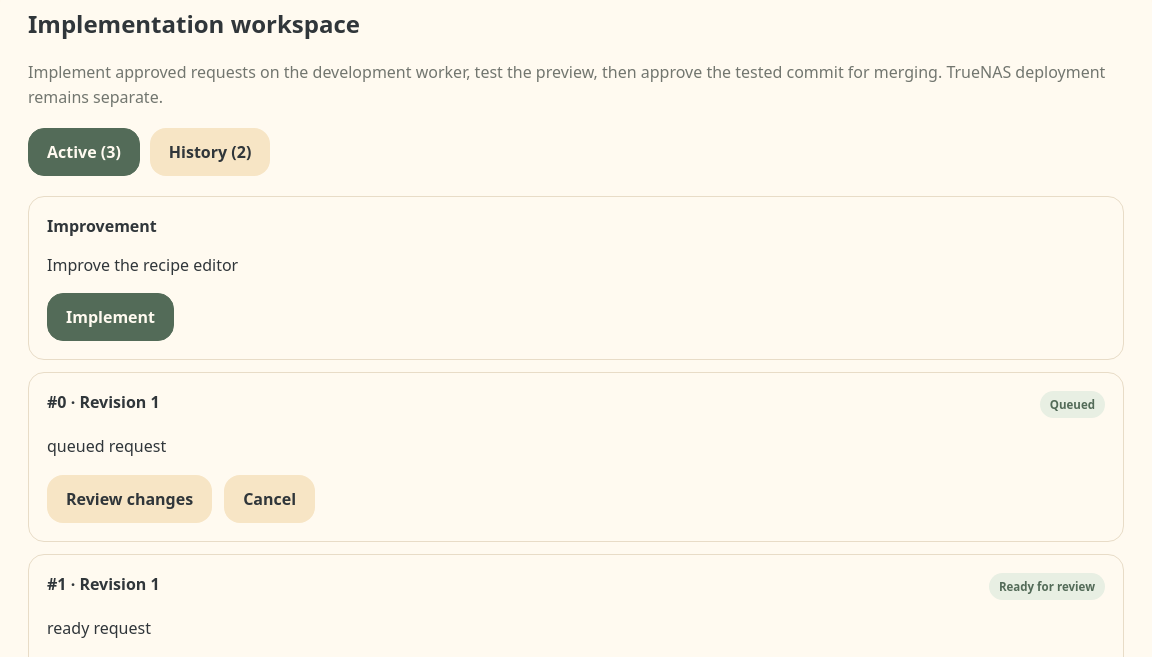
it: Implementation controls › keeps actionable jobs active and completed jobs in history without deleting them
Expected: the text "queued request" is shown, [47, 435, 166, 457]
Expected: the text "ready request" is shown, [47, 617, 151, 639]
Click the button "History (2)" at (210, 152), box [150, 128, 270, 176]
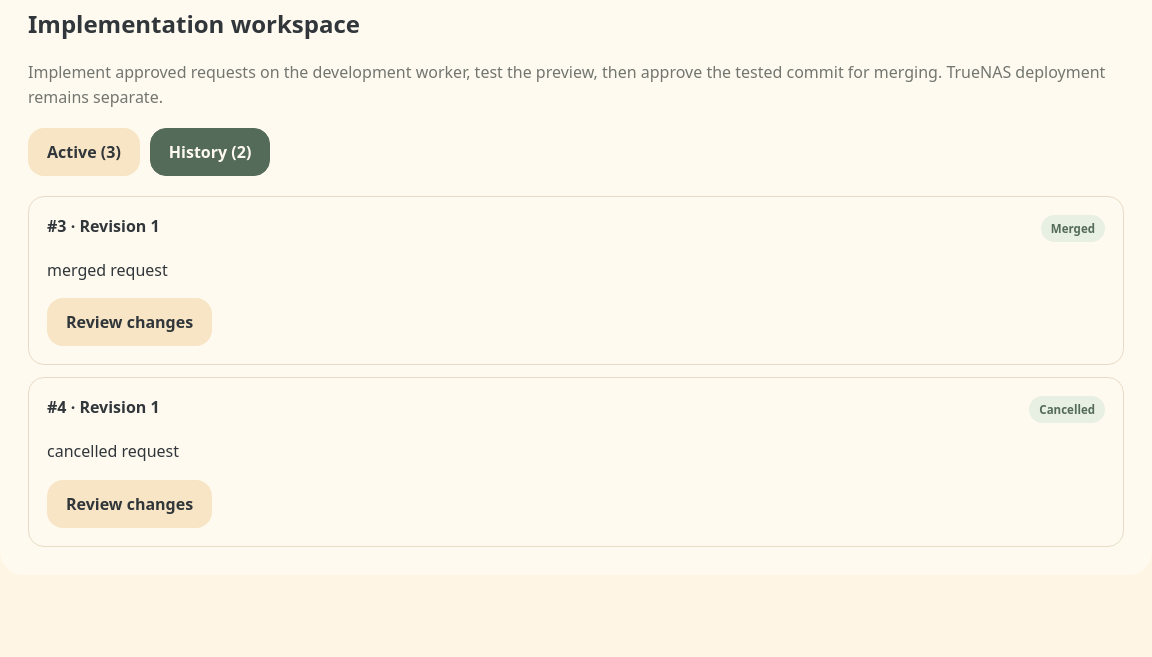
Now the text "merged request" is shown, box [47, 258, 168, 280]
Now the text "cancelled request" is shown, box [47, 440, 179, 462]
Now the number of links "Review changes" is 2, box [47, 298, 212, 346]; [47, 480, 212, 528]
Click the button "Active (3)" at (84, 152), box [28, 128, 140, 176]
(page scrolled)
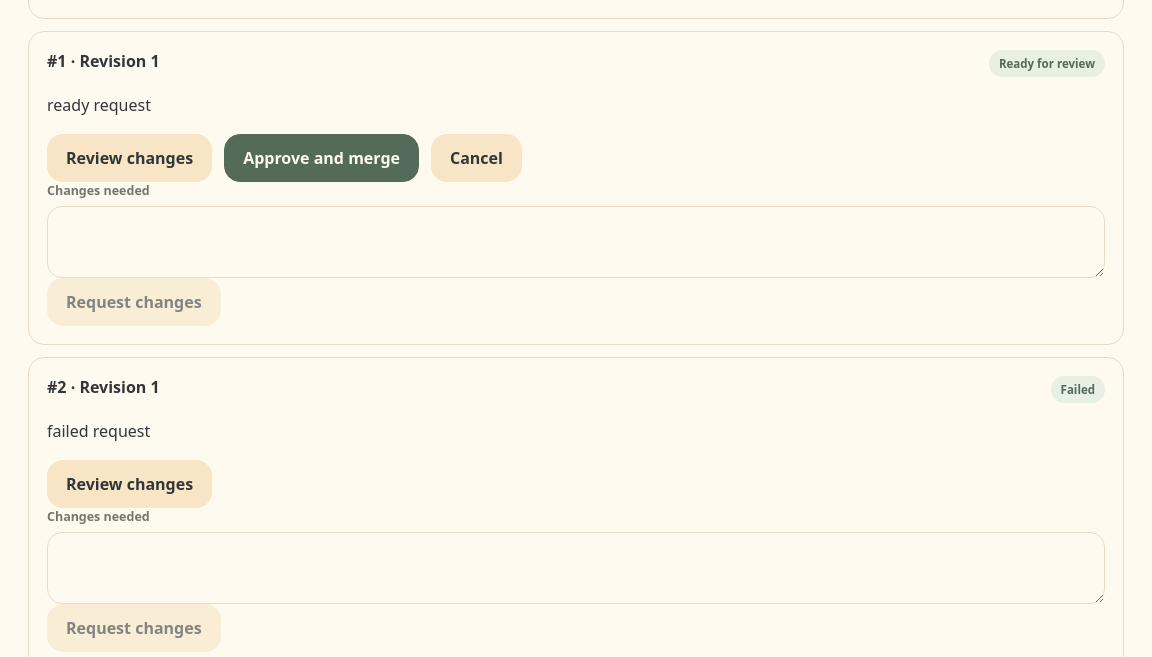
Now the text "failed request" is shown, box [47, 420, 150, 442]
